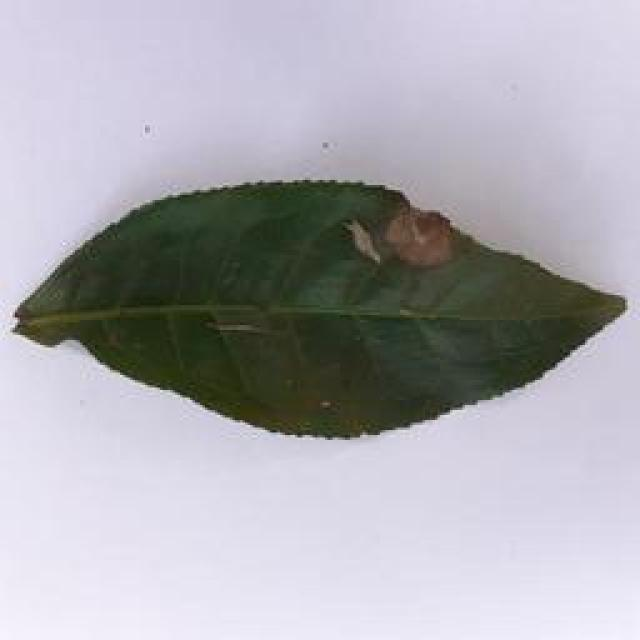Gray Blight: (6, 161, 632, 449)
